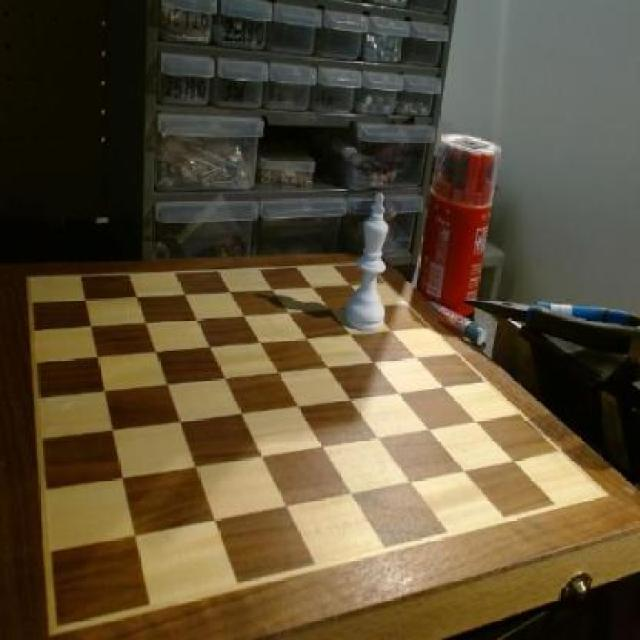white-bishop: (348, 190, 392, 336)
